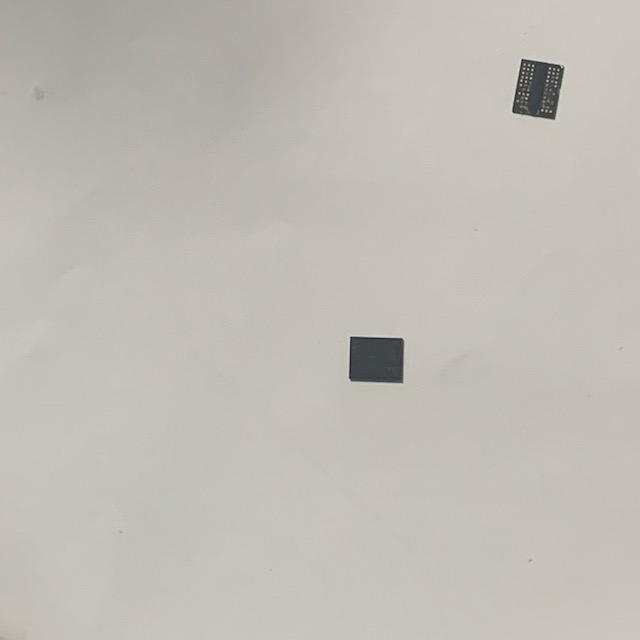IC: (507, 54, 567, 122), (345, 331, 408, 387)
